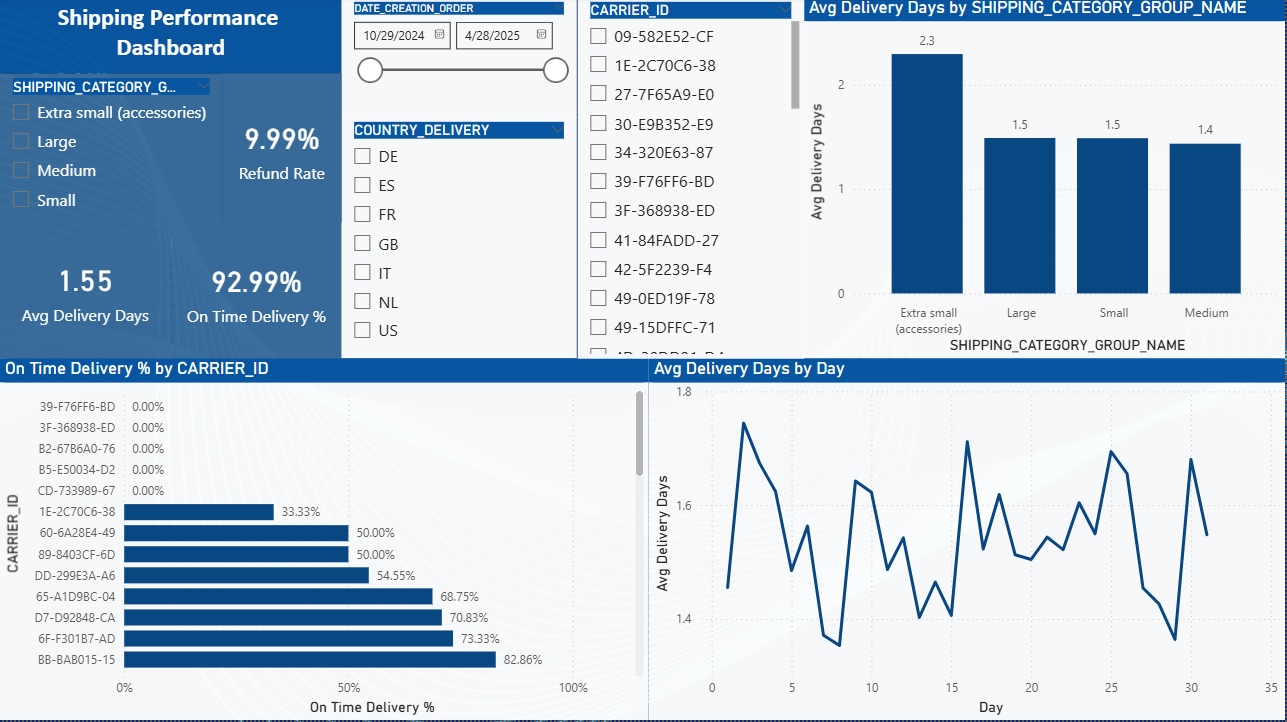

The page's visual inventory and layout, read from the dashboard file:
{"tool":"powerbi","page":{"name":"Shipping Performance Dashboard","canvas":[1280,720],"ordinal":2},"visuals":[{"type":"card","fields":{"Values":["dim_products.On Time Delivery %"]},"box":[170,224.3,170,137.1],"z":0},{"type":"card","fields":{"Values":["dim_products.Avg Delivery Days"]},"box":[0,224.3,170,135.7],"z":1000},{"type":"clusteredBarChart","fields":{"Y":["dim_products.On Time Delivery %"],"Category":["fact_delivery_orders.CARRIER_ID"]},"box":[0,360,645.7,360],"z":2000},{"type":"clusteredColumnChart","fields":{"Category":["fact_delivery_orders.SHIPPING_CATEGORY_GROUP_NAME"],"Y":["dim_products.Avg Delivery Days"]},"box":[800,0,480,360],"z":3000},{"type":"lineChart","fields":{"Y":["dim_products.Avg Delivery Days"],"Category":["fact_delivery_orders.DATE_PICK_UP.Variation.Date Hierarchy.Day"]},"box":[645.7,360,634.3,360],"z":4000},{"type":"slicer","fields":{"Values":["fact_orders.COUNTRY_DELIVERY"]},"box":[340,120,234.3,240],"z":5000},{"type":"slicer","fields":{"Values":["fact_delivery_orders.CARRIER_ID"]},"box":[574.3,0,225.7,360],"z":6000},{"type":"slicer","fields":{"Values":["fact_delivery_orders.SHIPPING_CATEGORY_GROUP_NAME"]},"box":[0,75.7,221.4,148.6],"z":7000},{"type":"textbox","box":[0,0,340,75.7],"z":8000},{"type":"slicer","fields":{"Values":["fact_orders.DATE_CREATION_ORDER"]},"box":[340,0,234.3,120],"z":9000},{"type":"card","fields":{"Values":["dim_products.Refund Rate"]},"box":[221.4,75.7,118.6,148.6],"z":9001}]}

Visuals, with their boxes in screenshot pixels (x1, y1, x2, y2), scaled from the page's 1280x720 canvas onto the 1287x722 screenshot:
card - dim_products.On Time Delivery %: [x1=171, y1=225, x2=342, y2=362]
card - dim_products.Avg Delivery Days: [x1=0, y1=225, x2=171, y2=361]
clusteredBarChart - dim_products.On Time Delivery % x fact_delivery_orders.CARRIER_ID: [x1=0, y1=361, x2=649, y2=721]
clusteredColumnChart - fact_delivery_orders.SHIPPING_CATEGORY_GROUP_NAME x dim_products.Avg Delivery Days: [x1=804, y1=0, x2=1286, y2=361]
lineChart - dim_products.Avg Delivery Days x fact_delivery_orders.DATE_PICK_UP.Variation.Date Hierarchy.Day: [x1=649, y1=361, x2=1286, y2=721]
slicer - fact_orders.COUNTRY_DELIVERY: [x1=342, y1=120, x2=577, y2=361]
slicer - fact_delivery_orders.CARRIER_ID: [x1=577, y1=0, x2=804, y2=361]
slicer - fact_delivery_orders.SHIPPING_CATEGORY_GROUP_NAME: [x1=0, y1=76, x2=223, y2=225]
textbox: [x1=0, y1=0, x2=342, y2=76]
slicer - fact_orders.DATE_CREATION_ORDER: [x1=342, y1=0, x2=577, y2=120]
card - dim_products.Refund Rate: [x1=223, y1=76, x2=342, y2=225]
